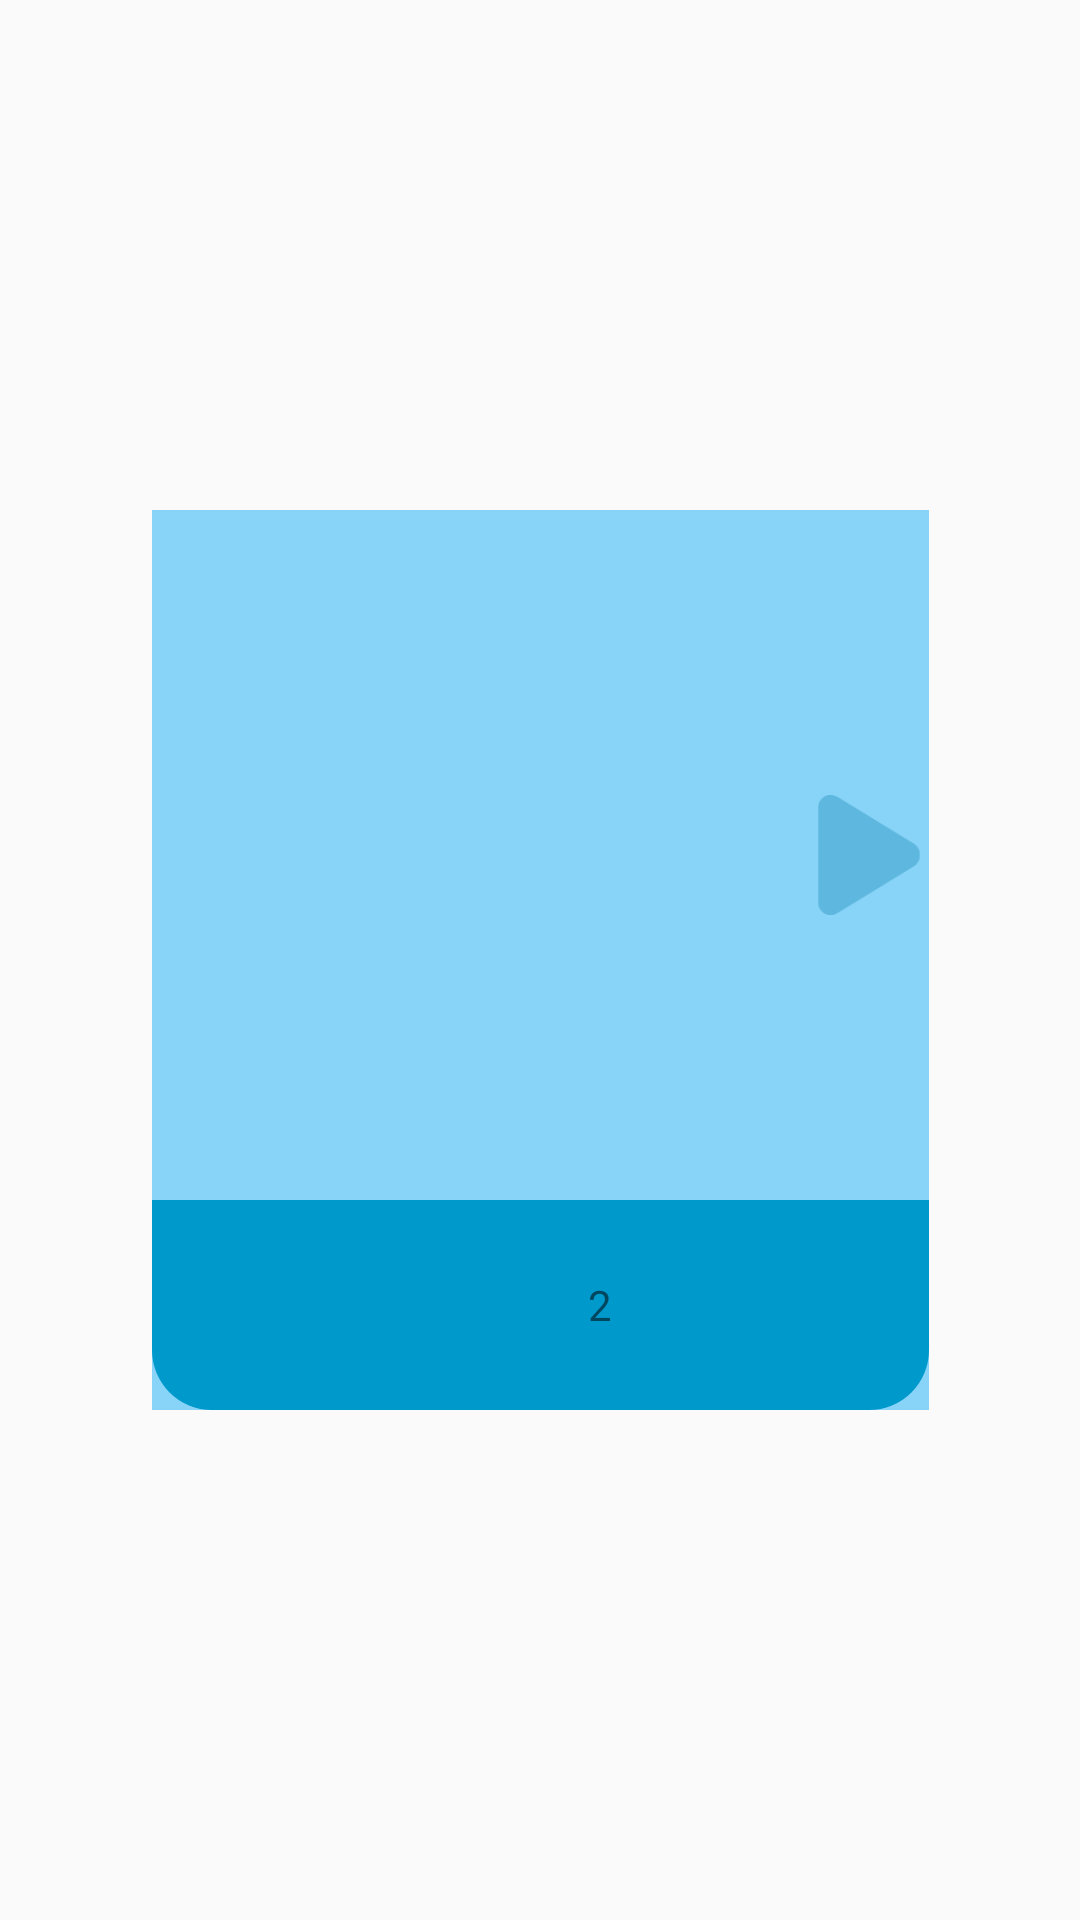

Screen size 1080 x 1920. Icon name, then its center in pixels as (x,y):
arrow right template: (869,855)
